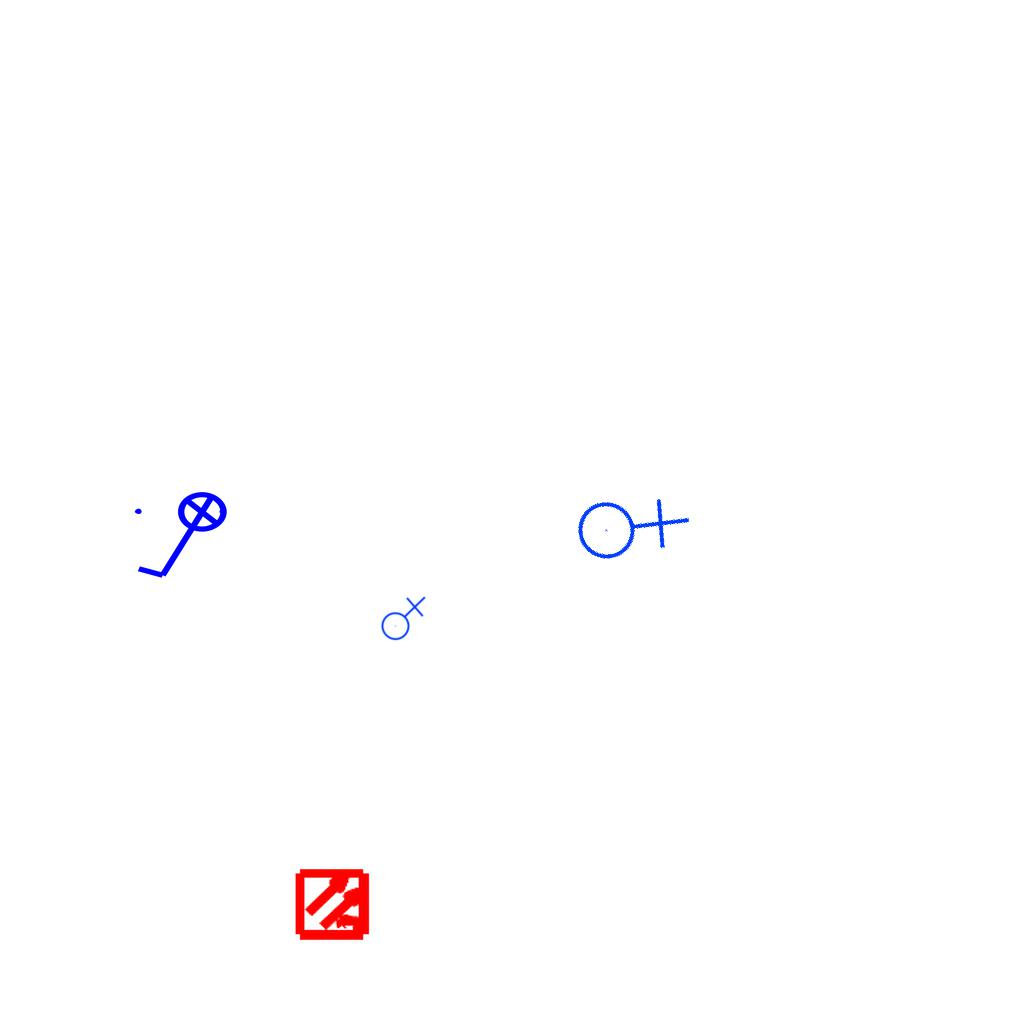Ausschalter_beleuchtet: (129, 490, 241, 586)
Elektroanschluss_allgemein_230V_Geraeteanschlussdose_230V: (558, 456, 695, 592), (377, 594, 426, 641)
OT_Multisensormelder_(Kombination_RMO_WMD): (278, 848, 391, 961)
